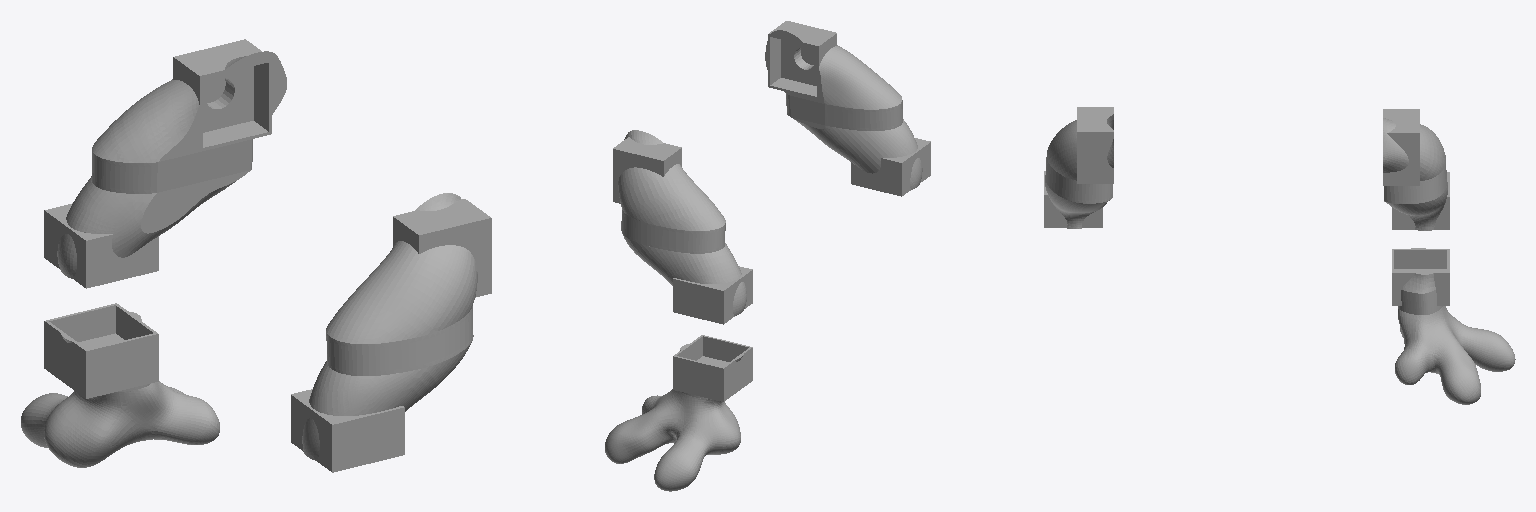
robot.urdf — FrogBot2_top-FrogBot2-z-4_bottom-FrogBot2-z-4:
<?xml version="1.0" ?>
<robot name="FrogBot2_top-FrogBot2-z-4_bottom-FrogBot2-z-4">

<material name="pla_5_percent_infill">
  <color rgba="0.700 0.700 0.700 1.000"/>
</material>

<link name="base_link">
  <inertial>
    <origin xyz="0 0 0" rpy="0 0 0"/>
    <mass value="1.3341577719423"/>
    <inertia ixx="0.0046797925109551535" iyy="0.011134478382956134" izz="0.010477176548232365" ixy="0.00012495104989682066" iyz="8.213962567094231e-05" ixz="-0.002474445058077273"/>
  </inertial>
  <visual>
    <origin xyz="0 0 0" rpy="0 0 0"/>
    <geometry>
      <mesh filename="simple_meshes/base_link.stl" scale="0.001 0.001 0.001"/>
    </geometry>
    <material name="pla_5_percent_infill"/>
  </visual>
  <collision>
    <origin xyz="0 0 0" rpy="0 0 0"/>
    <geometry>
      <mesh filename="simple_meshes/base_link.stl" scale="0.001 0.001 0.001"/>
    </geometry>
  </collision>
</link>

<link name="body_1_0_1">
  <inertial>
    <origin xyz="-0.053395 -0.09218 -0.023663" rpy="0 0 0"/>
    <mass value="0.05881359036328867"/>
    <inertia ixx="9.095212478772816e-05" iyy="9.433446921563066e-05" izz="1.9571050901978073e-05" ixy="-2.2703813579838918e-07" iyz="5.8764704355988514e-06" ixz="8.867298002828396e-06"/>
  </inertial>
  <visual>
    <origin xyz="-0.053395 -0.09218 -0.023663" rpy="0 0 0"/>
    <geometry>
      <mesh filename="simple_meshes/body_1_0_1.stl" scale="0.001 0.001 0.001"/>
    </geometry>
    <material name="pla_5_percent_infill"/>
  </visual>
  <collision>
    <origin xyz="-0.053395 -0.09218 -0.023663" rpy="0 0 0"/>
    <geometry>
      <mesh filename="simple_meshes/body_1_0_1.stl" scale="0.001 0.001 0.001"/>
    </geometry>
  </collision>
</link>

<link name="body_1_1_1">
  <inertial>
    <origin xyz="0.095032 -0.09218 0.005345" rpy="0 0 0"/>
    <mass value="0.12147764623430506"/>
    <inertia ixx="0.00010246199263522172" iyy="0.0001761943179062911" izz="0.00011782166533552858" ixy="5.410723347054093e-06" iyz="6.0611791908008915e-06" ixz="-4.685277818563974e-05"/>
  </inertial>
  <visual>
    <origin xyz="0.095032 -0.09218 0.005345" rpy="0 0 0"/>
    <geometry>
      <mesh filename="simple_meshes/body_1_1_1.stl" scale="0.001 0.001 0.001"/>
    </geometry>
    <material name="pla_5_percent_infill"/>
  </visual>
  <collision>
    <origin xyz="0.095032 -0.09218 0.005345" rpy="0 0 0"/>
    <geometry>
      <mesh filename="simple_meshes/body_1_1_1.stl" scale="0.001 0.001 0.001"/>
    </geometry>
  </collision>
</link>

<link name="body_1_2_1">
  <inertial>
    <origin xyz="-0.041549 0.09218 -0.043945" rpy="0 0 0"/>
    <mass value="0.0660515897145135"/>
    <inertia ixx="0.00015249496816287212" iyy="0.0001576127342945383" izz="3.07219080334755e-05" ixy="1.501649453832291e-06" iyz="-2.0231122639735257e-05" ixz="2.11377468936422e-05"/>
  </inertial>
  <visual>
    <origin xyz="-0.041549 0.09218 -0.043945" rpy="0 0 0"/>
    <geometry>
      <mesh filename="simple_meshes/body_1_2_1.stl" scale="0.001 0.001 0.001"/>
    </geometry>
    <material name="pla_5_percent_infill"/>
  </visual>
  <collision>
    <origin xyz="-0.041549 0.09218 -0.043945" rpy="0 0 0"/>
    <geometry>
      <mesh filename="simple_meshes/body_1_2_1.stl" scale="0.001 0.001 0.001"/>
    </geometry>
  </collision>
</link>

<link name="body_1_3_1">
  <inertial>
    <origin xyz="0.087142 0.09218 -0.003397" rpy="0 0 0"/>
    <mass value="0.12451073409510506"/>
    <inertia ixx="0.00010571617843158684" iyy="0.00017777966187887406" izz="0.00011883490240439248" ixy="-9.040581426799591e-06" iyz="-6.161322615455046e-06" ixz="-4.708264072333197e-05"/>
  </inertial>
  <visual>
    <origin xyz="0.087142 0.09218 -0.003397" rpy="0 0 0"/>
    <geometry>
      <mesh filename="simple_meshes/body_1_3_1.stl" scale="0.001 0.001 0.001"/>
    </geometry>
    <material name="pla_5_percent_infill"/>
  </visual>
  <collision>
    <origin xyz="0.087142 0.09218 -0.003397" rpy="0 0 0"/>
    <geometry>
      <mesh filename="simple_meshes/body_1_3_1.stl" scale="0.001 0.001 0.001"/>
    </geometry>
  </collision>
</link>

<link name="body_2_0_1">
  <inertial>
    <origin xyz="-0.065654 -0.139685 0.114558" rpy="0 0 0"/>
    <mass value="0.1107444252530155"/>
    <inertia ixx="0.00012624032940738994" iyy="0.00013863656985073271" izz="0.0001921665932403502" ixy="-1.045247047117481e-05" iyz="5.1925694311309376e-06" ixz="8.150636253358113e-06"/>
  </inertial>
  <visual>
    <origin xyz="-0.065654 -0.139685 0.114558" rpy="0 0 0"/>
    <geometry>
      <mesh filename="simple_meshes/body_2_0_1.stl" scale="0.001 0.001 0.001"/>
    </geometry>
    <material name="pla_5_percent_infill"/>
  </visual>
  <collision>
    <origin xyz="-0.065654 -0.139685 0.114558" rpy="0 0 0"/>
    <geometry>
      <mesh filename="simple_meshes/body_2_0_1.stl" scale="0.001 0.001 0.001"/>
    </geometry>
  </collision>
</link>

<link name="body_2_1_1">
  <inertial>
    <origin xyz="0.15751 -0.143533 0.114558" rpy="0 0 0"/>
    <mass value="0.08831010992293215"/>
    <inertia ixx="8.490810928962582e-05" iyy="9.918413415202845e-05" izz="9.836942171722717e-05" ixy="-9.11212129733191e-07" iyz="2.318386847240247e-05" ixz="1.448251129212855e-05"/>
  </inertial>
  <visual>
    <origin xyz="0.15751 -0.143533 0.114558" rpy="0 0 0"/>
    <geometry>
      <mesh filename="simple_meshes/body_2_1_1.stl" scale="0.001 0.001 0.001"/>
    </geometry>
    <material name="pla_5_percent_infill"/>
  </visual>
  <collision>
    <origin xyz="0.15751 -0.143533 0.114558" rpy="0 0 0"/>
    <geometry>
      <mesh filename="simple_meshes/body_2_1_1.stl" scale="0.001 0.001 0.001"/>
    </geometry>
  </collision>
</link>

<link name="body_2_2_1">
  <inertial>
    <origin xyz="-0.061161 0.145934 0.114558" rpy="0 0 0"/>
    <mass value="0.10824732304279813"/>
    <inertia ixx="0.00012591728711228416" iyy="0.00013513996235742145" izz="0.000191953516375088" ixy="1.1707051718161995e-05" iyz="-3.4574848813014557e-06" ixz="5.330766853549416e-06"/>
  </inertial>
  <visual>
    <origin xyz="-0.061161 0.145934 0.114558" rpy="0 0 0"/>
    <geometry>
      <mesh filename="simple_meshes/body_2_2_1.stl" scale="0.001 0.001 0.001"/>
    </geometry>
    <material name="pla_5_percent_infill"/>
  </visual>
  <collision>
    <origin xyz="-0.061161 0.145934 0.114558" rpy="0 0 0"/>
    <geometry>
      <mesh filename="simple_meshes/body_2_2_1.stl" scale="0.001 0.001 0.001"/>
    </geometry>
  </collision>
</link>

<link name="body_2_3_1">
  <inertial>
    <origin xyz="0.160089 0.145768 0.114558" rpy="0 0 0"/>
    <mass value="0.08316405117493891"/>
    <inertia ixx="8.562527914710016e-05" iyy="9.445152169073809e-05" izz="9.300721714380423e-05" ixy="2.3158356639860558e-07" iyz="-2.4224199416408507e-05" ixz="1.870806997767002e-05"/>
  </inertial>
  <visual>
    <origin xyz="0.160089 0.145768 0.114558" rpy="0 0 0"/>
    <geometry>
      <mesh filename="simple_meshes/body_2_3_1.stl" scale="0.001 0.001 0.001"/>
    </geometry>
    <material name="pla_5_percent_infill"/>
  </visual>
  <collision>
    <origin xyz="0.160089 0.145768 0.114558" rpy="0 0 0"/>
    <geometry>
      <mesh filename="simple_meshes/body_2_3_1.stl" scale="0.001 0.001 0.001"/>
    </geometry>
  </collision>
</link>

<joint name="joint_1_0" type="revolute">
  <origin xyz="0.053395 0.09218 0.023663" rpy="0 0 0"/>
  <parent link="base_link"/>
  <child link="body_1_0_1"/>
  <axis xyz="0.0 1.0 0.0"/>
  <limit upper="1.2" lower="-1.2" effort="3.8" velocity="5.4"/>
</joint>
<transmission name="joint_1_0_tran">
  <type>transmission_interface/SimpleTransmission</type>
  <joint name="joint_1_0">
    <hardwareInterface>PositionJointInterface</hardwareInterface>
  </joint>
  <actuator name="joint_1_0_actr">
    <hardwareInterface>PositionJointInterface</hardwareInterface>
    <mechanicalReduction>1</mechanicalReduction>
  </actuator>
</transmission>

<joint name="joint_1_1" type="revolute">
  <origin xyz="-0.095032 0.09218 -0.005345" rpy="0 0 0"/>
  <parent link="base_link"/>
  <child link="body_1_1_1"/>
  <axis xyz="0.0 1.0 0.0"/>
  <limit upper="1.2" lower="-1.2" effort="3.8" velocity="5.4"/>
</joint>
<transmission name="joint_1_1_tran">
  <type>transmission_interface/SimpleTransmission</type>
  <joint name="joint_1_1">
    <hardwareInterface>PositionJointInterface</hardwareInterface>
  </joint>
  <actuator name="joint_1_1_actr">
    <hardwareInterface>PositionJointInterface</hardwareInterface>
    <mechanicalReduction>1</mechanicalReduction>
  </actuator>
</transmission>

<joint name="joint_1_2" type="revolute">
  <origin xyz="0.041549 -0.09218 0.043945" rpy="0 0 0"/>
  <parent link="base_link"/>
  <child link="body_1_2_1"/>
  <axis xyz="0.0 1.0 0.0"/>
  <limit upper="1.2" lower="-1.2" effort="3.8" velocity="5.4"/>
</joint>
<transmission name="joint_1_2_tran">
  <type>transmission_interface/SimpleTransmission</type>
  <joint name="joint_1_2">
    <hardwareInterface>PositionJointInterface</hardwareInterface>
  </joint>
  <actuator name="joint_1_2_actr">
    <hardwareInterface>PositionJointInterface</hardwareInterface>
    <mechanicalReduction>1</mechanicalReduction>
  </actuator>
</transmission>

<joint name="joint_1_3" type="revolute">
  <origin xyz="-0.087142 -0.09218 0.003397" rpy="0 0 0"/>
  <parent link="base_link"/>
  <child link="body_1_3_1"/>
  <axis xyz="0.0 1.0 0.0"/>
  <limit upper="1.2" lower="-1.2" effort="3.8" velocity="5.4"/>
</joint>
<transmission name="joint_1_3_tran">
  <type>transmission_interface/SimpleTransmission</type>
  <joint name="joint_1_3">
    <hardwareInterface>PositionJointInterface</hardwareInterface>
  </joint>
  <actuator name="joint_1_3_actr">
    <hardwareInterface>PositionJointInterface</hardwareInterface>
    <mechanicalReduction>1</mechanicalReduction>
  </actuator>
</transmission>

<joint name="joint_2_0" type="revolute">
  <origin xyz="0.012259 0.047505 -0.138221" rpy="0 0 0"/>
  <parent link="body_1_0_1"/>
  <child link="body_2_0_1"/>
  <axis xyz="0.0 0.0 1.0"/>
  <limit upper="1.2" lower="-1.2" effort="3.8" velocity="5.4"/>
</joint>
<transmission name="joint_2_0_tran">
  <type>transmission_interface/SimpleTransmission</type>
  <joint name="joint_2_0">
    <hardwareInterface>PositionJointInterface</hardwareInterface>
  </joint>
  <actuator name="joint_2_0_actr">
    <hardwareInterface>PositionJointInterface</hardwareInterface>
    <mechanicalReduction>1</mechanicalReduction>
  </actuator>
</transmission>

<joint name="joint_2_1" type="revolute">
  <origin xyz="-0.062478 0.051353 -0.109213" rpy="0 0 0"/>
  <parent link="body_1_1_1"/>
  <child link="body_2_1_1"/>
  <axis xyz="0.0 0.0 1.0"/>
  <limit upper="1.2" lower="-1.2" effort="3.8" velocity="5.4"/>
</joint>
<transmission name="joint_2_1_tran">
  <type>transmission_interface/SimpleTransmission</type>
  <joint name="joint_2_1">
    <hardwareInterface>PositionJointInterface</hardwareInterface>
  </joint>
  <actuator name="joint_2_1_actr">
    <hardwareInterface>PositionJointInterface</hardwareInterface>
    <mechanicalReduction>1</mechanicalReduction>
  </actuator>
</transmission>

<joint name="joint_2_2" type="revolute">
  <origin xyz="0.019612 -0.053754 -0.158503" rpy="0 0 0"/>
  <parent link="body_1_2_1"/>
  <child link="body_2_2_1"/>
  <axis xyz="0.0 0.0 1.0"/>
  <limit upper="1.2" lower="-1.2" effort="3.8" velocity="5.4"/>
</joint>
<transmission name="joint_2_2_tran">
  <type>transmission_interface/SimpleTransmission</type>
  <joint name="joint_2_2">
    <hardwareInterface>PositionJointInterface</hardwareInterface>
  </joint>
  <actuator name="joint_2_2_actr">
    <hardwareInterface>PositionJointInterface</hardwareInterface>
    <mechanicalReduction>1</mechanicalReduction>
  </actuator>
</transmission>

<joint name="joint_2_3" type="revolute">
  <origin xyz="-0.072947 -0.053588 -0.117955" rpy="0 0 0"/>
  <parent link="body_1_3_1"/>
  <child link="body_2_3_1"/>
  <axis xyz="0.0 0.0 1.0"/>
  <limit upper="1.2" lower="-1.2" effort="3.8" velocity="5.4"/>
</joint>
<transmission name="joint_2_3_tran">
  <type>transmission_interface/SimpleTransmission</type>
  <joint name="joint_2_3">
    <hardwareInterface>PositionJointInterface</hardwareInterface>
  </joint>
  <actuator name="joint_2_3_actr">
    <hardwareInterface>PositionJointInterface</hardwareInterface>
    <mechanicalReduction>1</mechanicalReduction>
  </actuator>
</transmission>

</robot>

--- Render facts (derived) ---
Views: 3 orthographic renders of the robot side by side, from view 1: azimuth 30°, elevation 25°; view 2: azimuth 150°, elevation 25°; view 3: azimuth 270°, elevation 25°.
Robot: FrogBot2_top-FrogBot2-z-4_bottom-FrogBot2-z-4 — 9 links, 8 joints (8 revolute); root link base_link; default pose: every joint at zero.
Visible links, largest first — view 1: body_1_3_1, body_1_1_1, body_2_1_1; view 2: body_1_3_1, body_1_1_1, body_2_1_1; view 3: body_2_1_1, body_1_3_1, body_1_1_1.
Link boxes in pixels (left/top/right/bottom): body_1_3_1: left=291, top=193, right=491, bottom=472; body_1_1_1: left=44, top=39, right=286, bottom=288; body_2_1_1: left=21, top=303, right=219, bottom=467; body_1_3_1: left=765, top=21, right=930, bottom=196; body_1_1_1: left=613, top=130, right=752, bottom=324; body_2_1_1: left=605, top=335, right=752, bottom=491; body_2_1_1: left=1392, top=248, right=1515, bottom=404; body_1_3_1: left=1044, top=107, right=1113, bottom=228; body_1_1_1: left=1383, top=109, right=1449, bottom=230.
Size in the robot's own frame: 0.136 by 0.3924 by 0.2699 metres.
3 mesh visuals loaded from 9 distinct referenced files (3 binary STL); not drawn: 6 (reference not matched to a file when rendering).